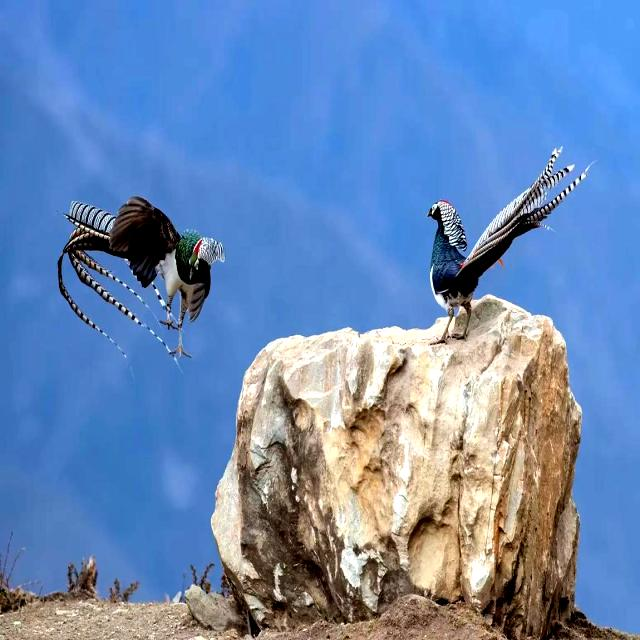Chrysolophus amherstiae: (461, 148, 589, 274), (58, 201, 141, 332), (436, 200, 466, 248)
